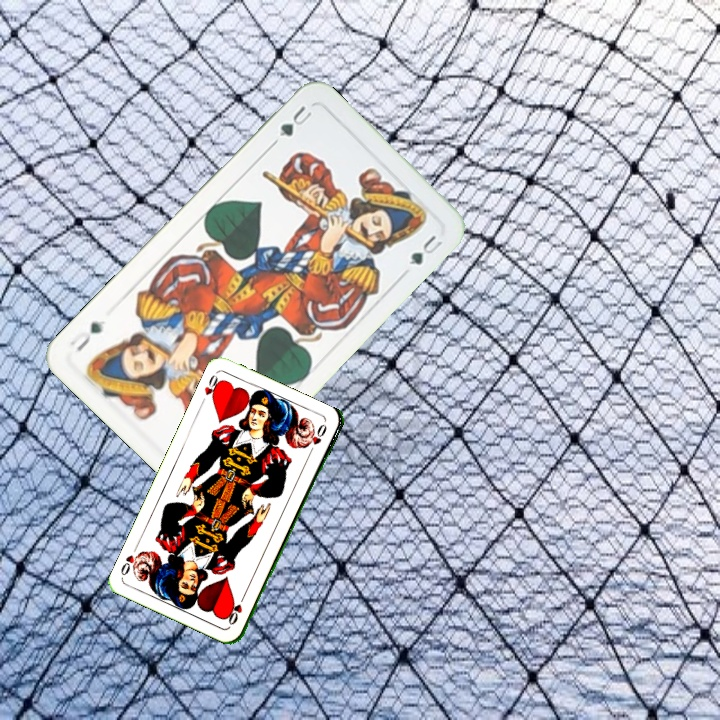GU: (275, 101, 315, 139)
HO: (197, 369, 225, 408), (225, 590, 248, 628)
